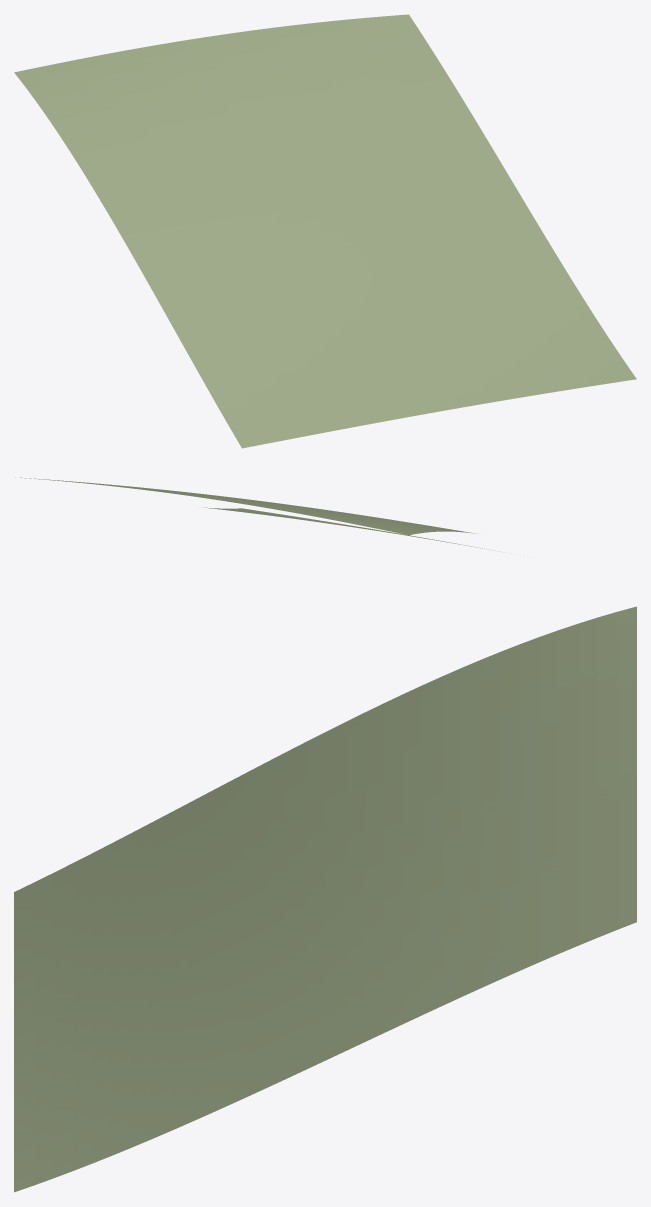
File: expanse-20-9.glb
3 views of the same model, one above another, from view 1: azimuth 30°, elevation 25°; view 2: azimuth 150°, elevation 25°; view 3: azimuth 270°, elevation 25° (orthographic). The views are drawn at different scales.
Visible parts, largest first — view 1: expanse-20-9; view 2: expanse-20-9; view 3: expanse-20-9.
Boxes of the visible parts, x1,y1,x2,y2 form: expanse-20-9: (14, 14, 636, 448); expanse-20-9: (15, 477, 502, 552); expanse-20-9: (14, 606, 636, 1192).
Size of the model in its own units: 256 by 146 by 256.
